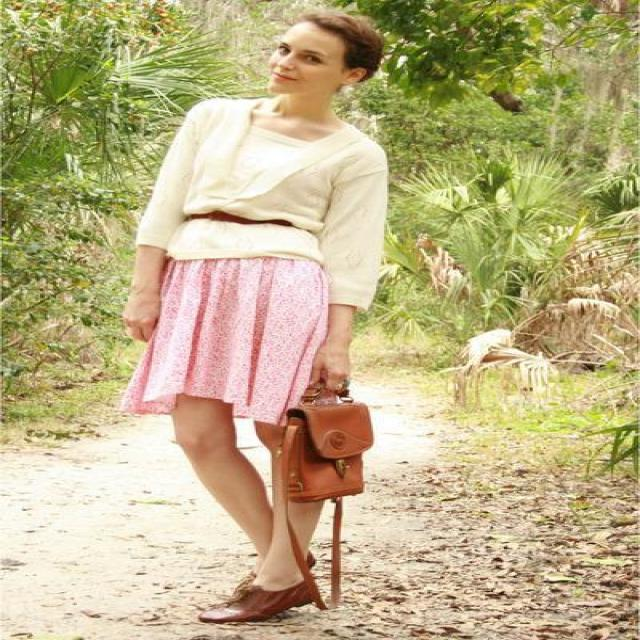bag: (254, 377, 373, 498)
shirt: (130, 97, 400, 309)
shoe: (222, 578, 328, 622)
skirt: (144, 248, 336, 431)
